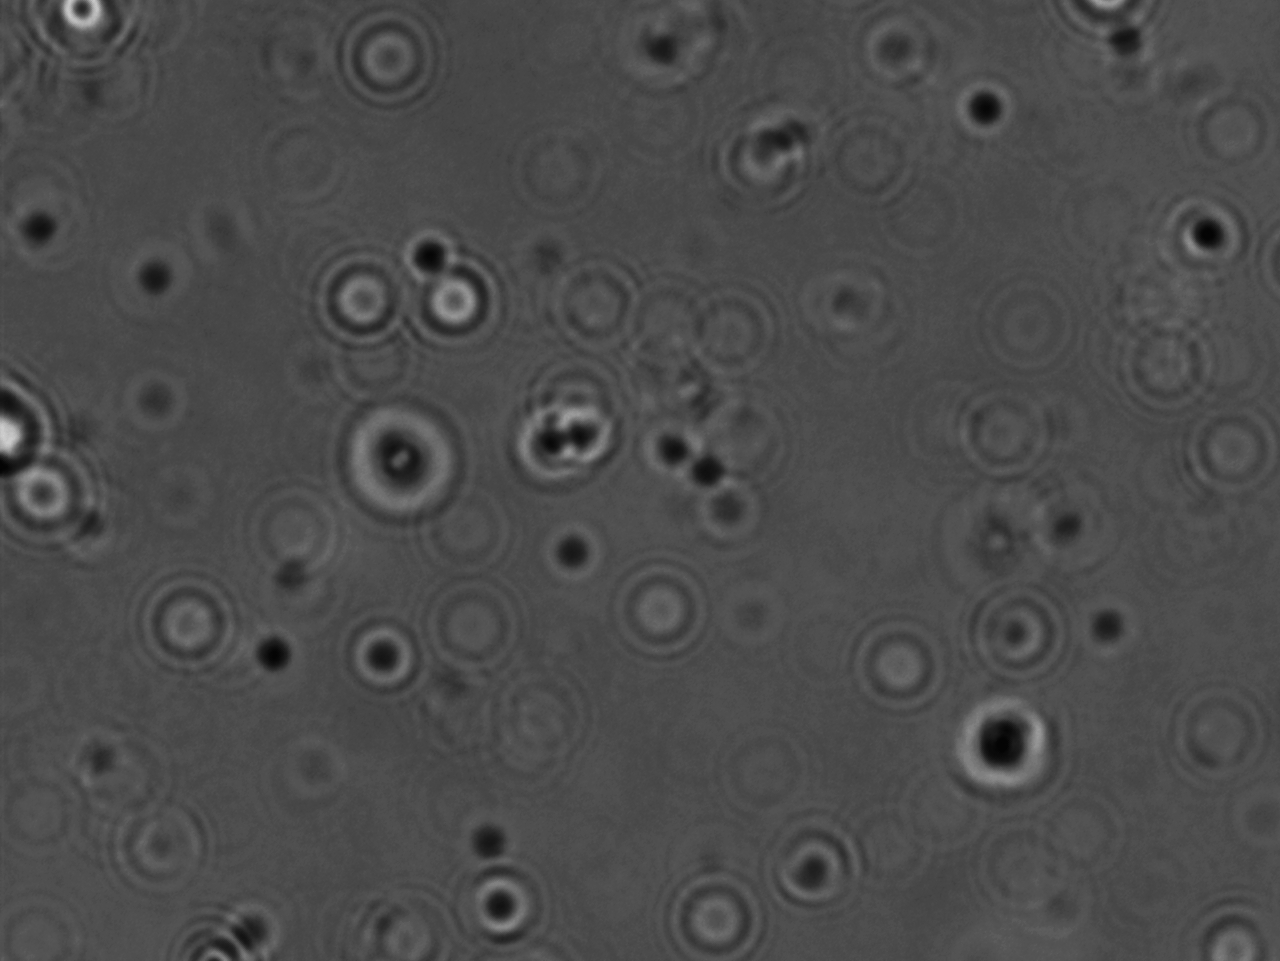depth:-16: (323, 392, 491, 533), (937, 667, 1069, 807)
